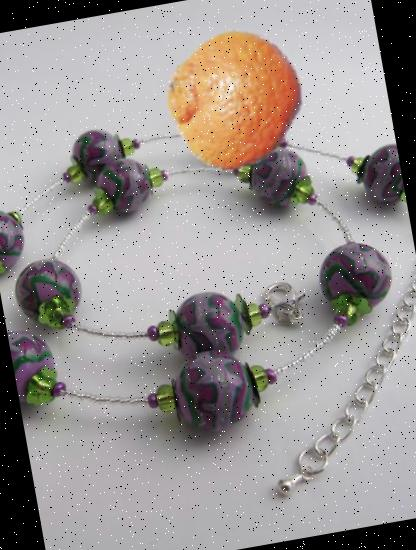Mandarine: (154, 17, 316, 180)
